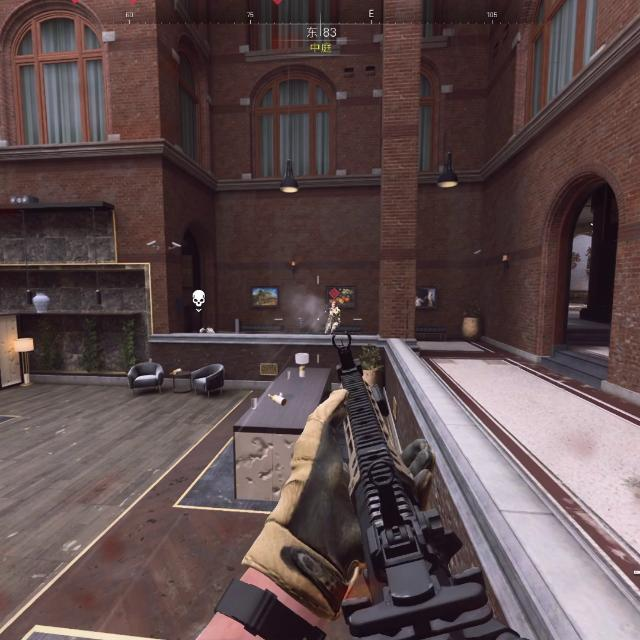MW2_body: (324, 288, 342, 334)
